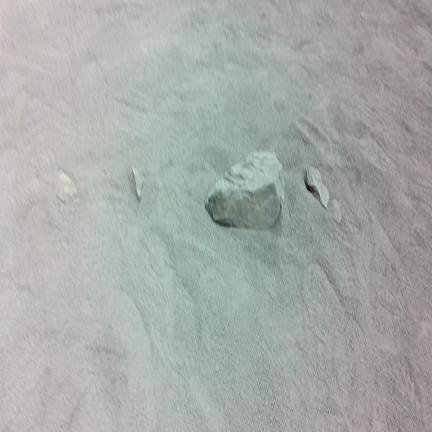Rock: (206, 152, 284, 229), (306, 167, 329, 208), (57, 171, 76, 203), (131, 168, 143, 201), (332, 199, 342, 223)
